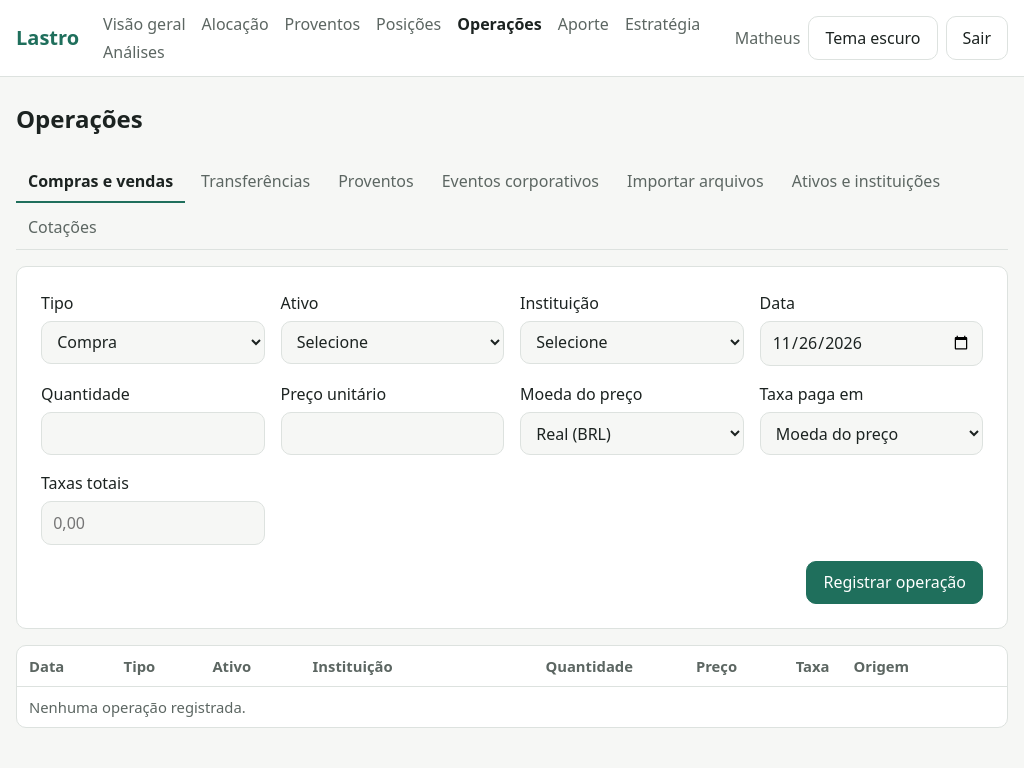
TradesTab › explains in Portuguese when a sell exceeds the position
This screenshot has width=1024, height=768.
Select "Venda" in the dropdown labelled "Tipo". click: {"x": 153, "y": 342}
box: x1=41 y1=321 x2=264 y2=364
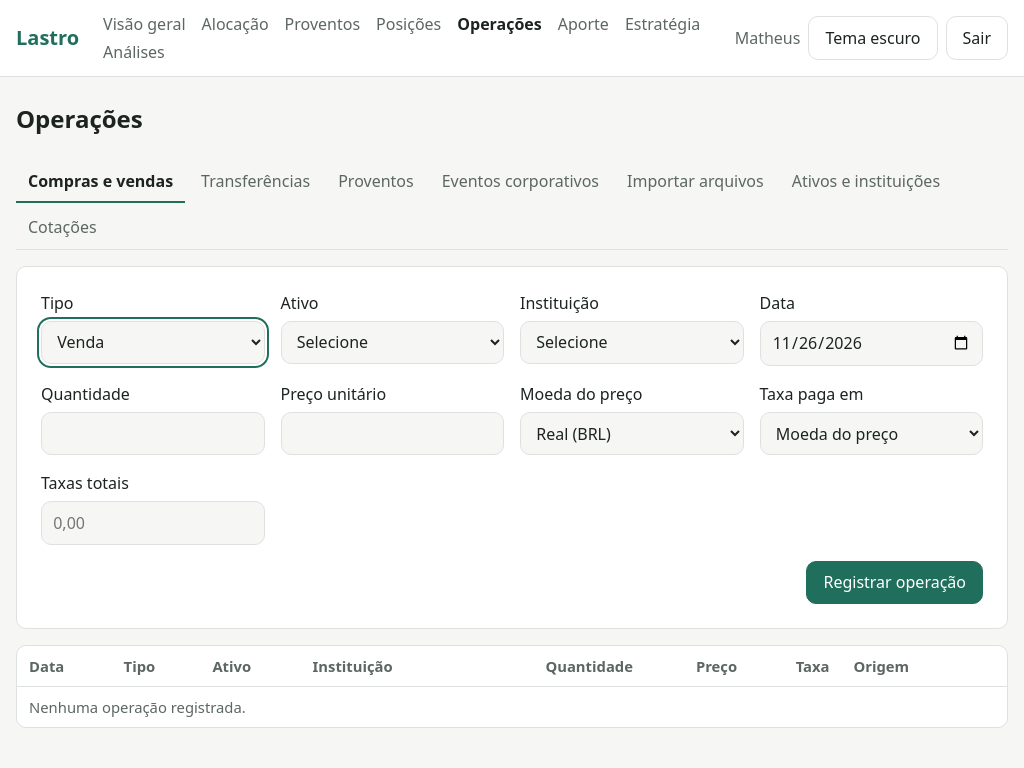
Select "ITSA4 — Itaúsa" in the dropdown labelled "Ativo". click: {"x": 392, "y": 342}
box: x1=280 y1=321 x2=504 y2=364
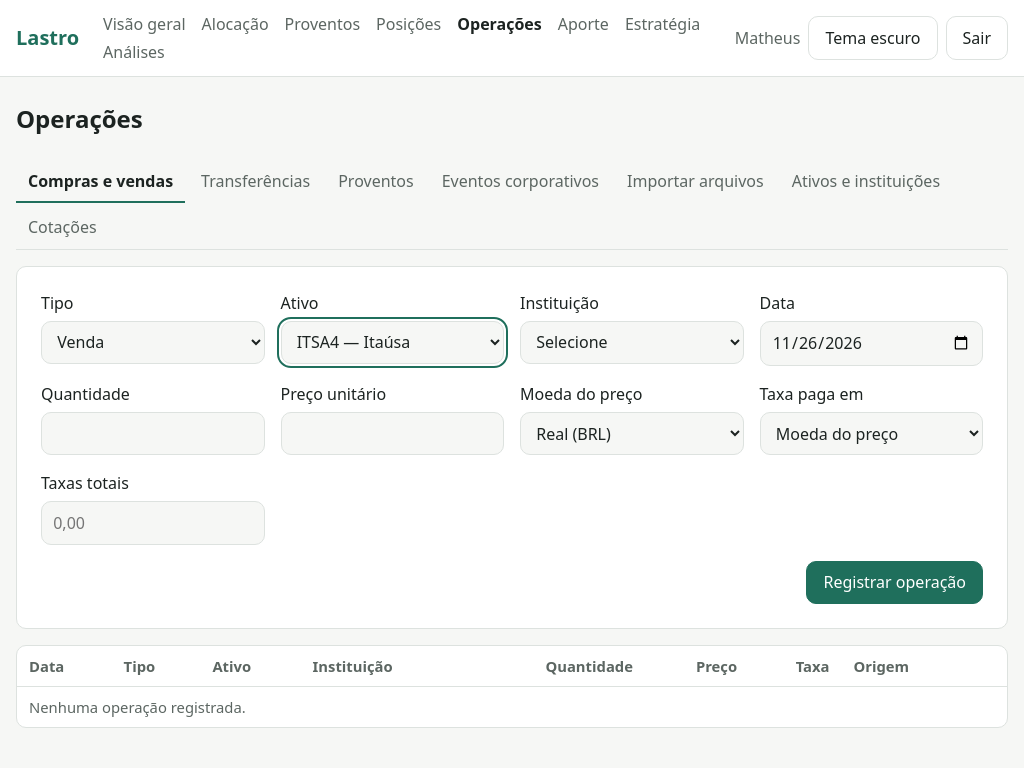
Select "Corretora" in the dropdown labelled "Instituição". click: {"x": 632, "y": 342}
box: x1=520 y1=321 x2=744 y2=364
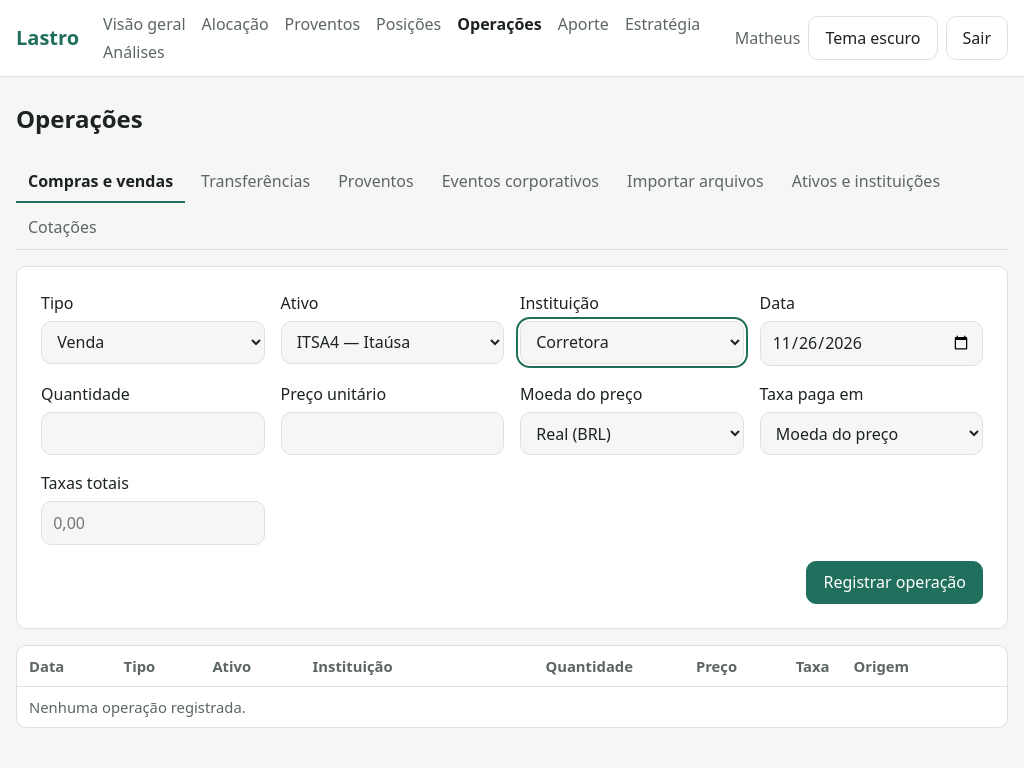
Type "11" into the field labelled "Quantidade". click: {"x": 153, "y": 434}
box: x1=41 y1=412 x2=264 y2=455
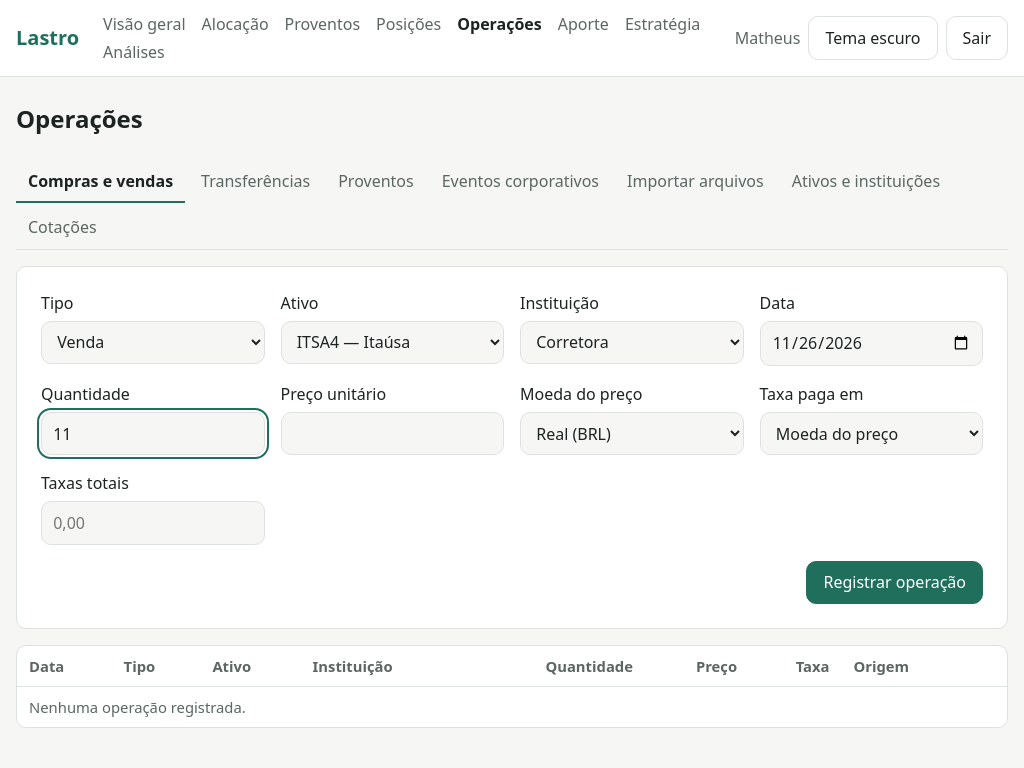
Type "10" into the field labelled "Preço unitário". click: {"x": 392, "y": 434}
box: x1=280 y1=412 x2=504 y2=455
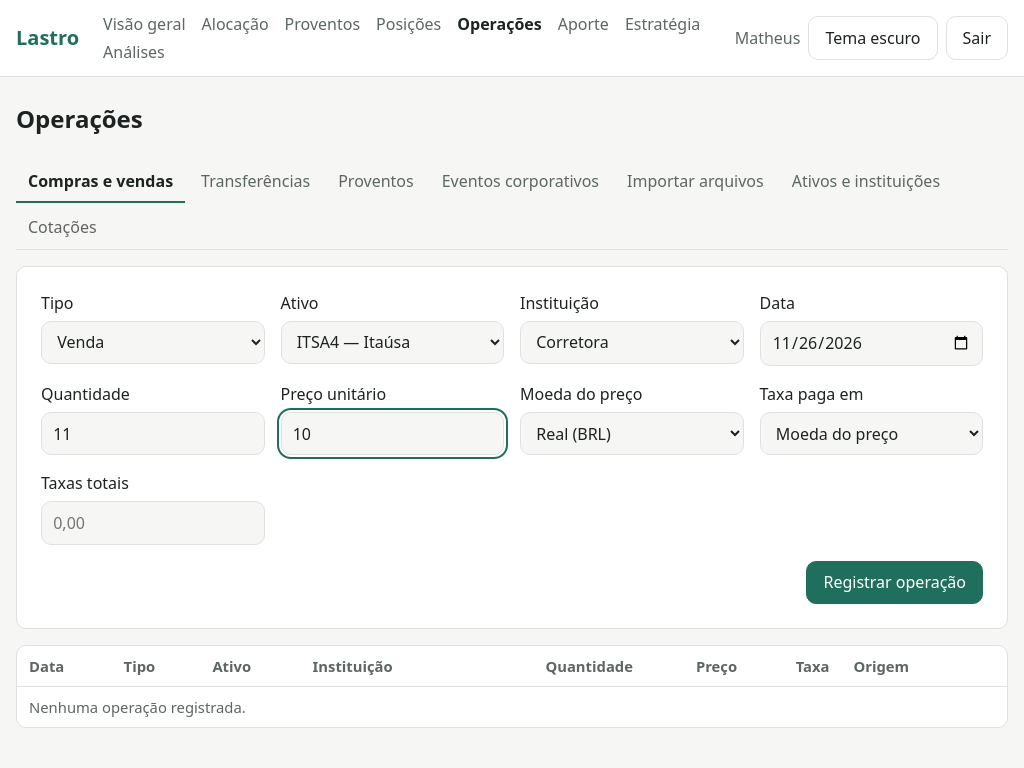
Click the button "Registrar operação". click: {"x": 895, "y": 582}
box: x1=806 y1=561 x2=983 y2=604
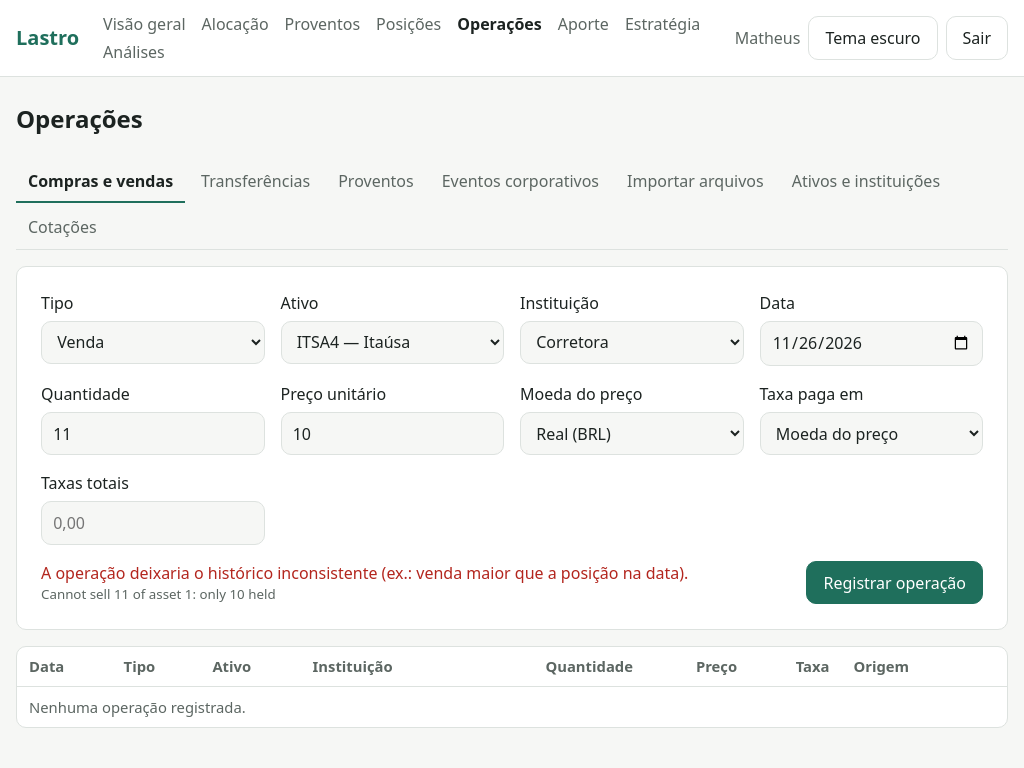
Now the message shows "venda maior que a posição", box x1=41 y1=562 x2=688 y2=584
